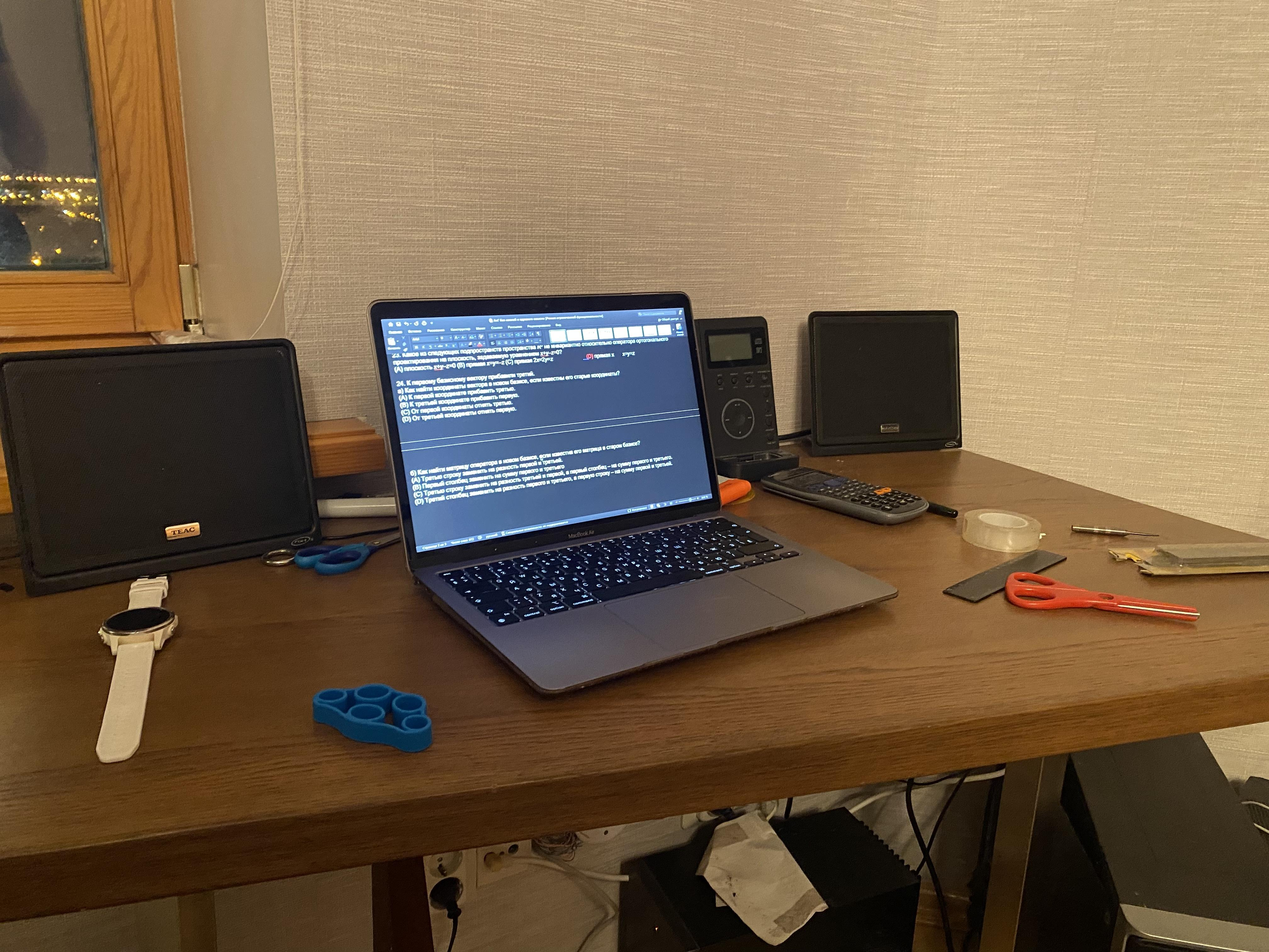monitor: (362, 282, 721, 575)
